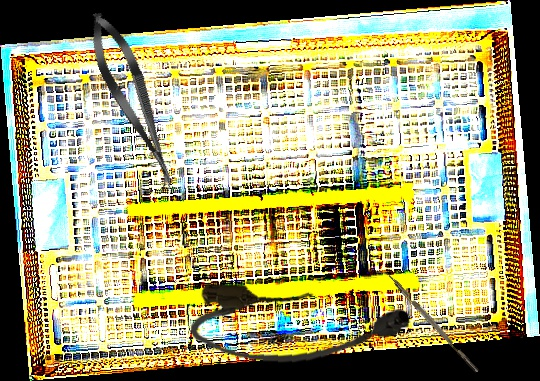Cannula: (188, 281, 413, 372)
Chopper: (375, 264, 480, 378)
Micro Scissor: (78, 5, 189, 197)
